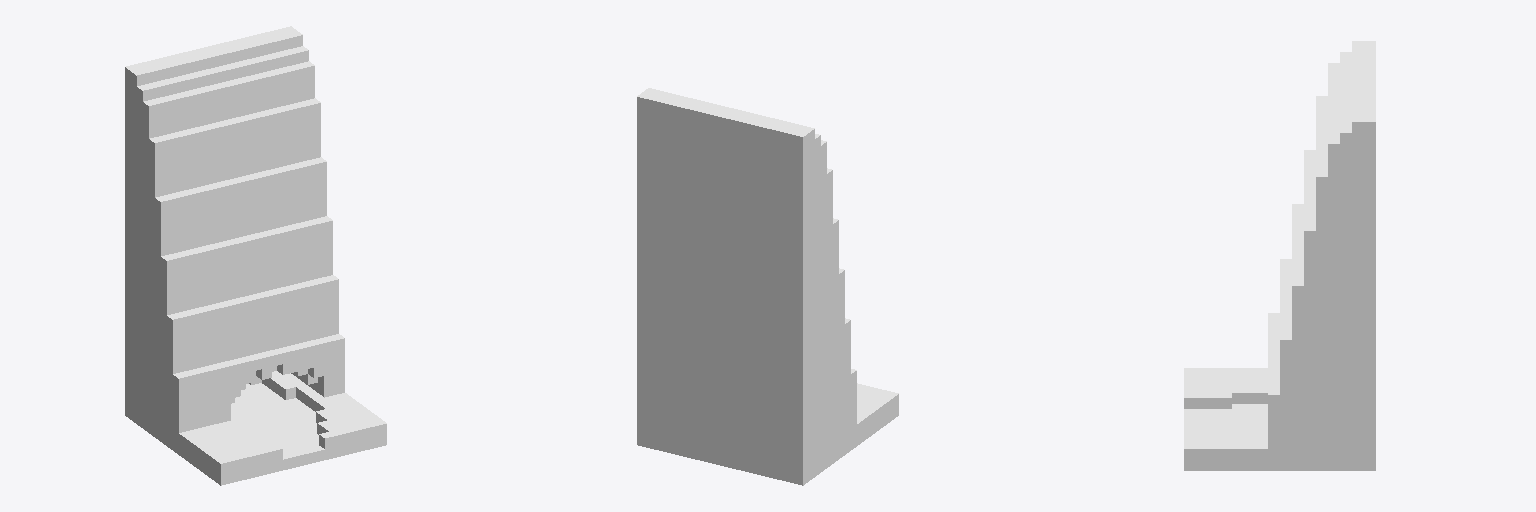
The model's file is Mountain_river_2.obj.
The picture shows the model from 3 angles: view 1: azimuth 30°, elevation 25°; view 2: azimuth 150°, elevation 25°; view 3: azimuth 270°, elevation 25°; orthographic projection.
Parts seen in each view (by area): view 1: object 1; view 2: object 1; view 3: object 1.
Boxes of the visible parts, <box> form: object 1: <box>125,26,386,485</box>; object 1: <box>637,88,898,485</box>; object 1: <box>1184,41,1375,470</box>.
Bounding box in the file's own units: 1.6 × 3.2 × 1.6.